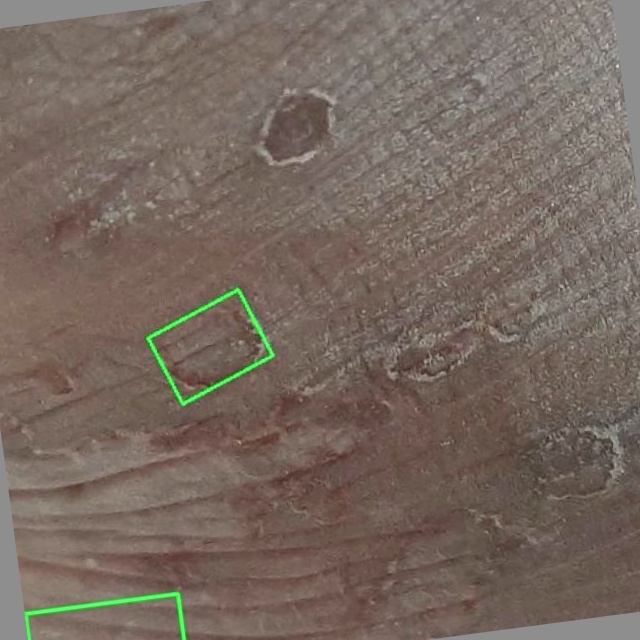Contact Dermatitis: (148, 290, 273, 404)
